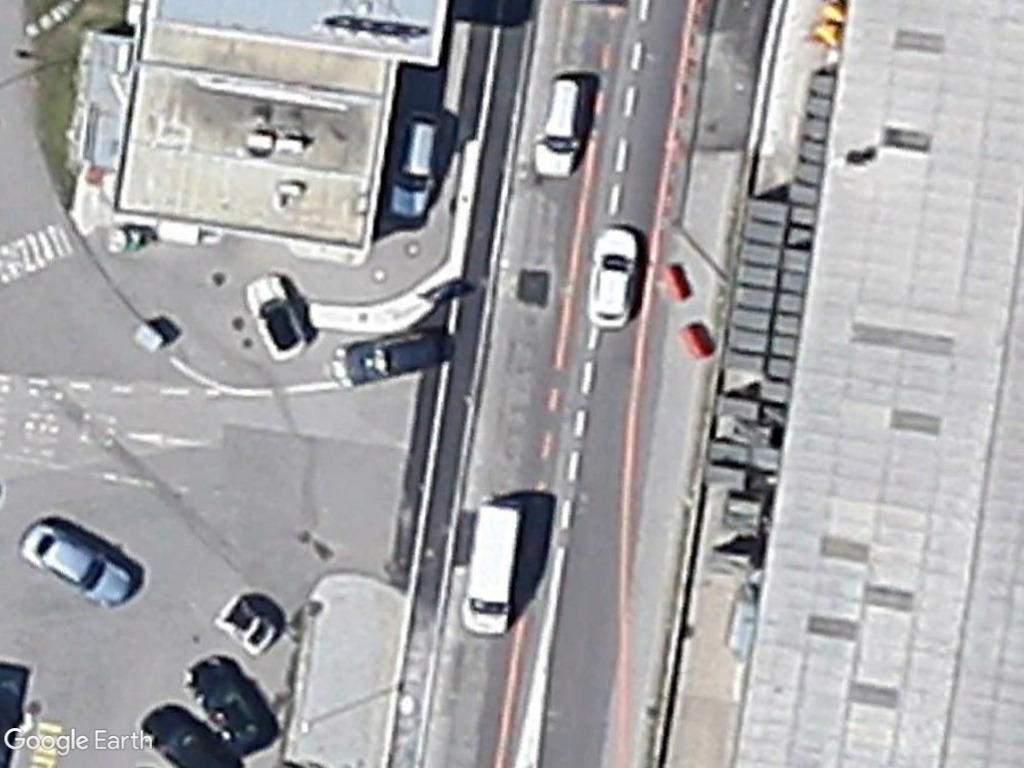car: (15, 522, 137, 613), (531, 70, 590, 186), (387, 111, 447, 225), (585, 220, 642, 334), (241, 271, 309, 363)
van: (459, 492, 531, 640)
